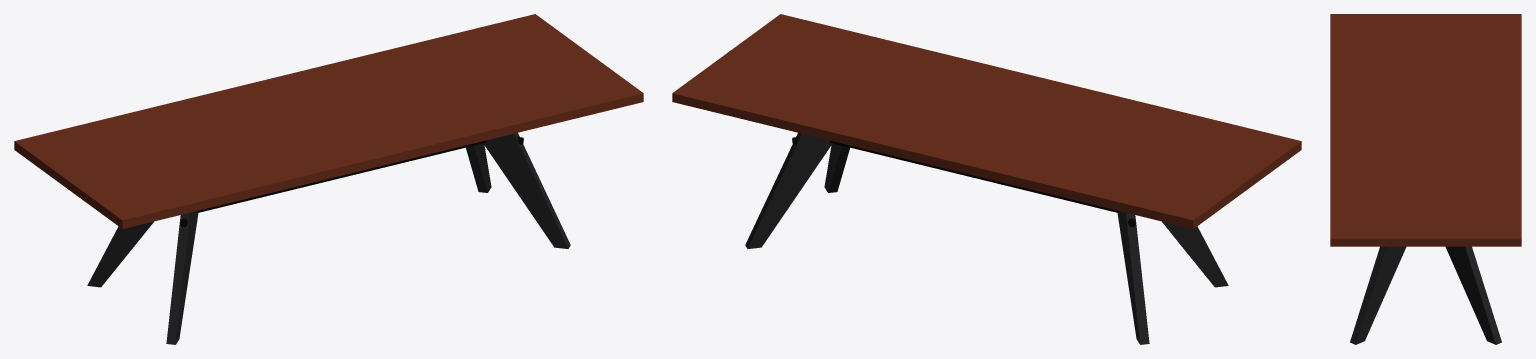
File: table5.obj
3 renders of one model, left to right at view 1: azimuth 30°, elevation 25°; view 2: azimuth 150°, elevation 25°; view 3: azimuth 270°, elevation 25°, orthographic. The views are drawn at different scales.
Visible parts, largest first — view 1: Mesh2 Model, Mesh9 Model, Mesh7 Model, Mesh4 Model, Mesh5 Model, Mesh3 Model; view 2: Mesh2 Model, Mesh3 Model, Mesh4 Model, Mesh7 Model, Mesh5 Model, Mesh9 Model; view 3: Mesh2 Model, Mesh3 Model, Mesh9 Model.
Part boxes in pixels (x1,y1,x2,y2): Mesh2 Model: [14, 14, 643, 228]; Mesh9 Model: [483, 132, 570, 248]; Mesh7 Model: [166, 211, 198, 344]; Mesh4 Model: [87, 221, 154, 287]; Mesh5 Model: [197, 140, 486, 212]; Mesh3 Model: [466, 143, 491, 192]; Mesh2 Model: [672, 14, 1301, 228]; Mesh3 Model: [745, 132, 832, 248]; Mesh4 Model: [1117, 211, 1149, 344]; Mesh7 Model: [1161, 221, 1228, 287]; Mesh5 Model: [829, 140, 1118, 212]; Mesh9 Model: [824, 143, 849, 192]; Mesh2 Model: [1330, 14, 1521, 246]; Mesh3 Model: [1445, 246, 1501, 344]; Mesh9 Model: [1350, 246, 1406, 344].
Bounding box in the file's own units: 2.5 × 0.68 × 0.9.
